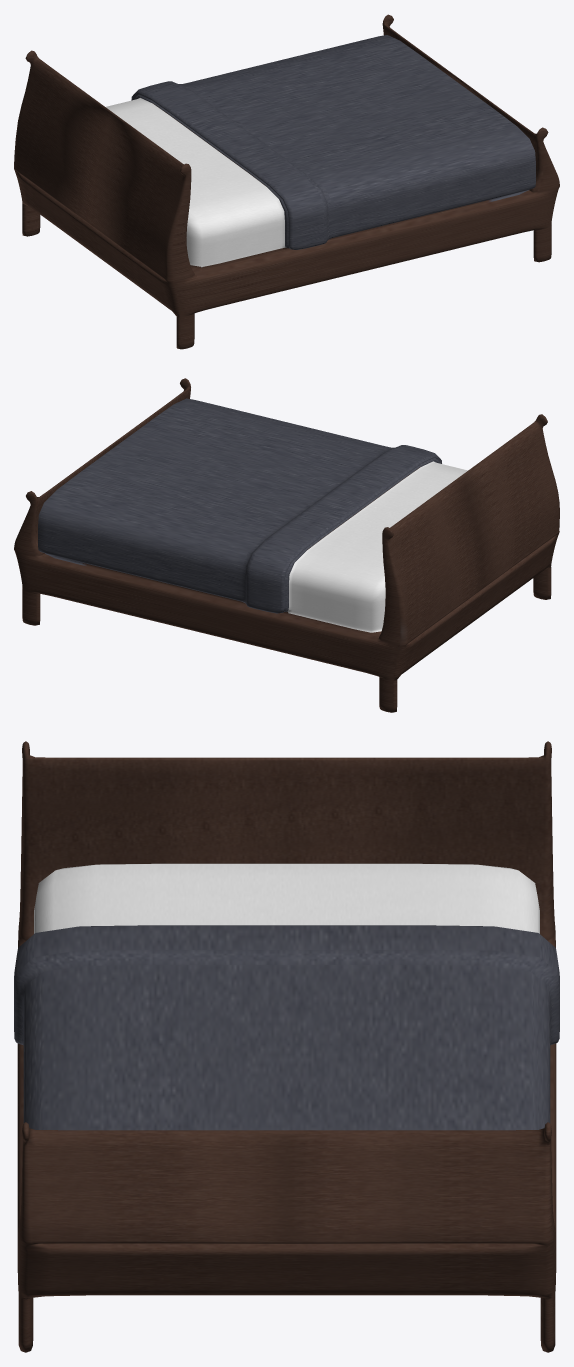
Rendered from _finalBed.fbx.
The picture shows the model from 3 angles, top to bottom: view 1: azimuth 30°, elevation 25°; view 2: azimuth 150°, elevation 25°; view 3: azimuth 270°, elevation 25°; orthographic projection. The views are drawn at different scales.
Parts seen in each view (by area): view 1: Bed; view 2: Bed; view 3: Bed.
Boxes of the visible parts, <box> form: Bed: <box>14,14,559,349</box>; Bed: <box>14,378,559,712</box>; Bed: <box>14,741,559,1352</box>.
Size of the model in its own units: 949 by 424 by 674.
1 material, 1 textured.
